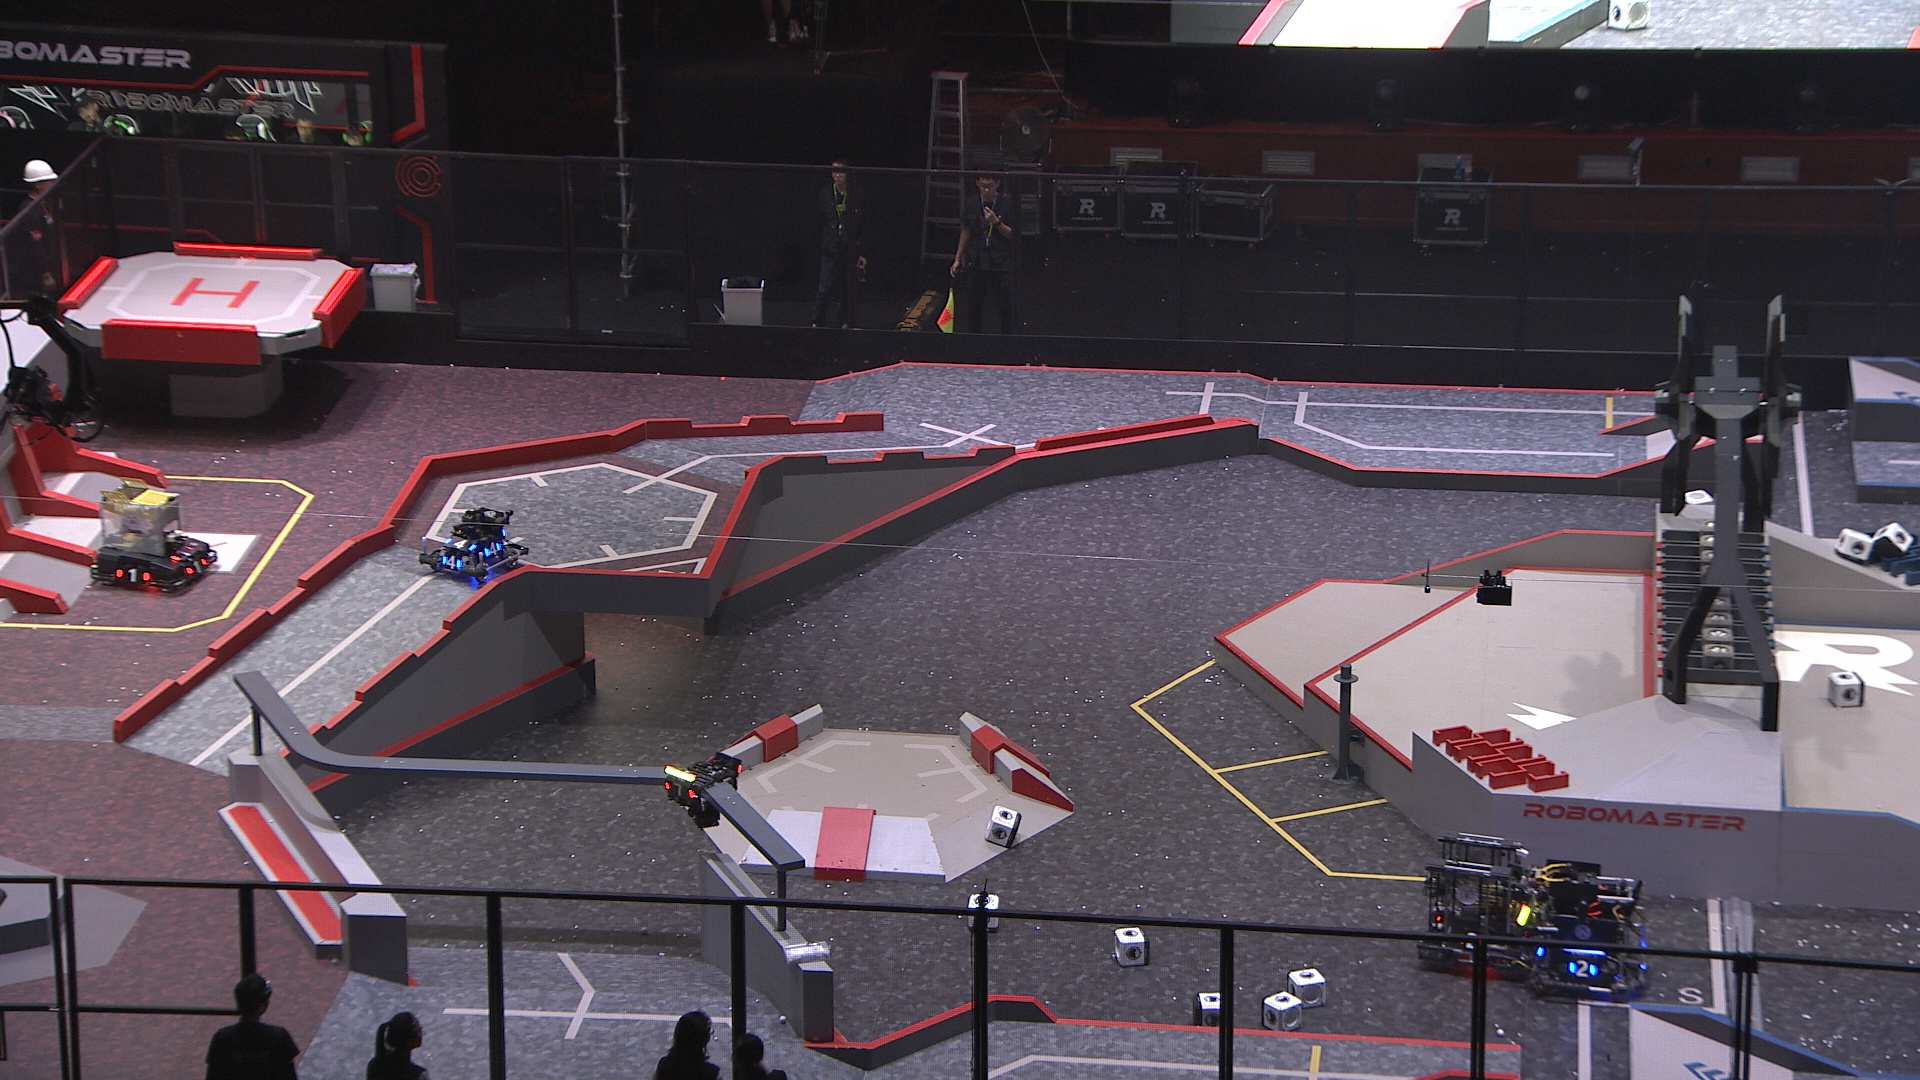armor: (662, 777, 700, 802), (113, 564, 154, 585), (1567, 956, 1598, 978), (443, 534, 479, 551), (167, 541, 193, 564), (182, 556, 207, 579), (479, 541, 506, 559), (438, 553, 465, 571)
car: (1522, 861, 1654, 1004), (1414, 832, 1532, 978), (87, 480, 222, 597), (417, 504, 537, 589)
watcher: (657, 752, 746, 832)
